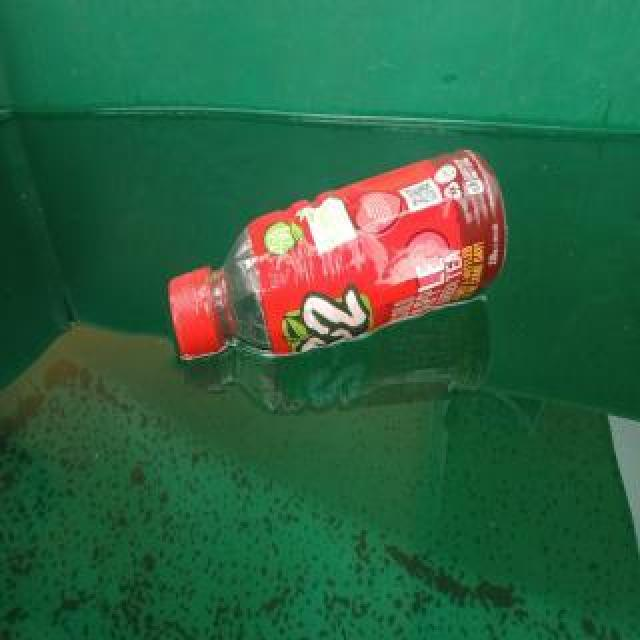bottle: (167, 142, 509, 362)
